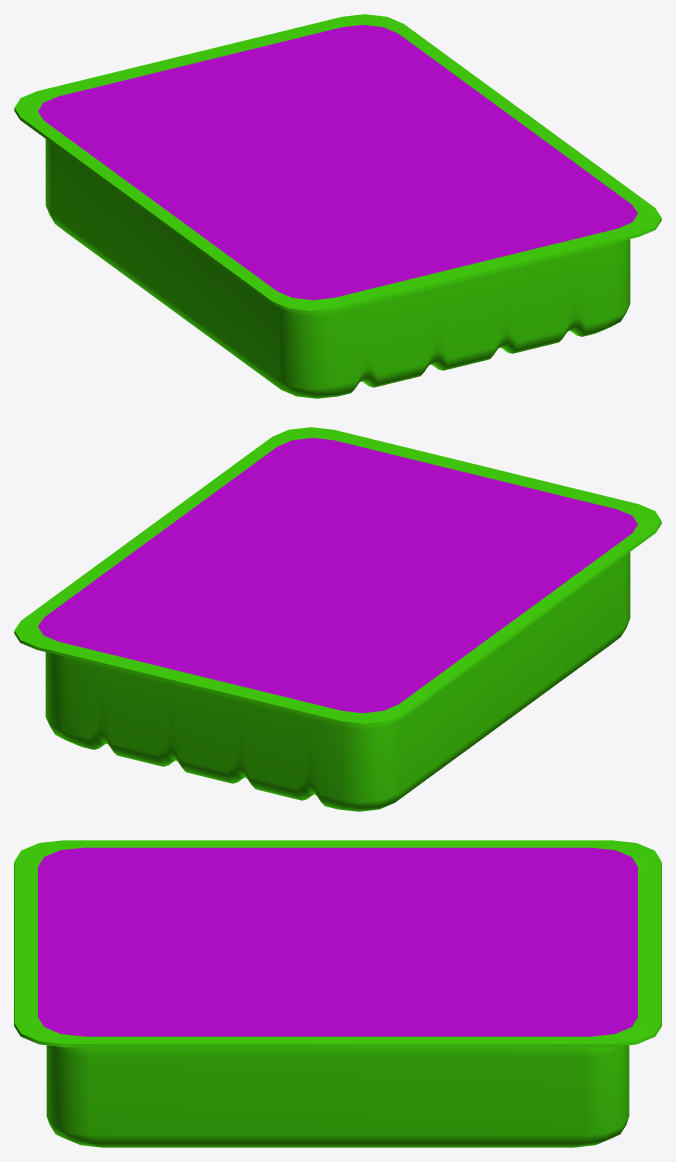
The model's file is ChickenFillet.fbx.
The picture shows the model from 3 angles, top to bottom: view 1: azimuth 30°, elevation 25°; view 2: azimuth 150°, elevation 25°; view 3: azimuth 270°, elevation 25°; orthographic projection. The views are drawn at different scales.
Visible parts, largest first — view 1: ChickenFillet; view 2: ChickenFillet; view 3: ChickenFillet.
Part boxes in pixels (x1,y1,x2,y2): ChickenFillet: (14,14,661,398); ChickenFillet: (14,427,661,811); ChickenFillet: (14,840,661,1147).
Size of the model in its own units: 436 by 120 by 584.
